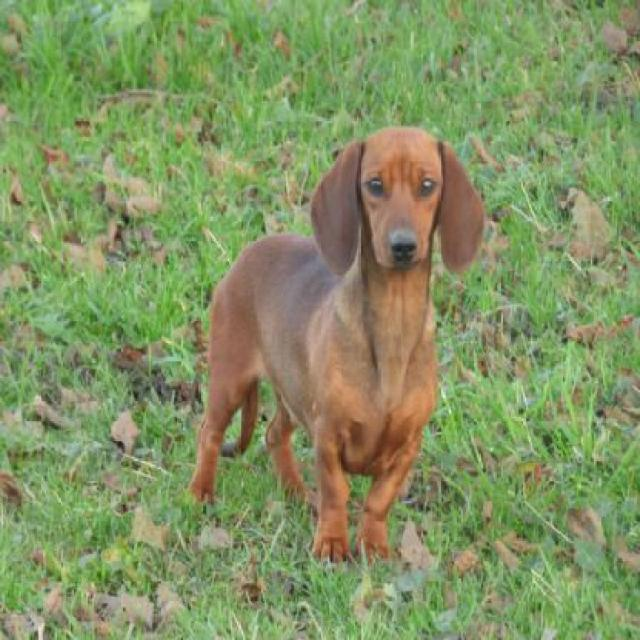Dog: (188, 119, 492, 576)
